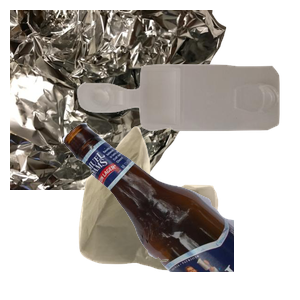glass: (60, 120, 300, 300)
metal: (10, 10, 229, 190)
plastic: (75, 62, 300, 186)
trash: (76, 124, 287, 300)
